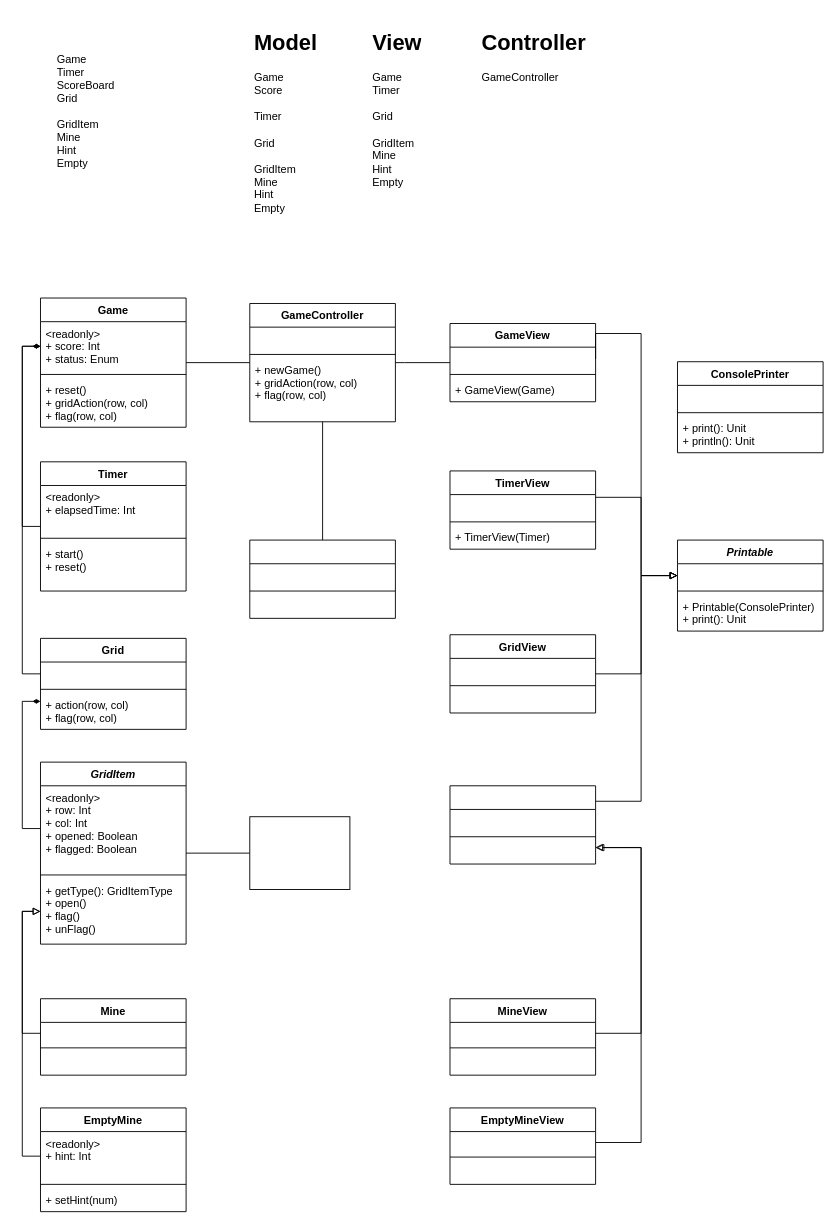
This 839x1229 diagram has some shape labels left out. The centre of each missing label's shape, as x and y in pixels:
"GridItemView" goes at (522,824).
"InputReader" goes at (322,578).
"«enumeration» GridItemType Mine EmptyMine" goes at (299,853).
